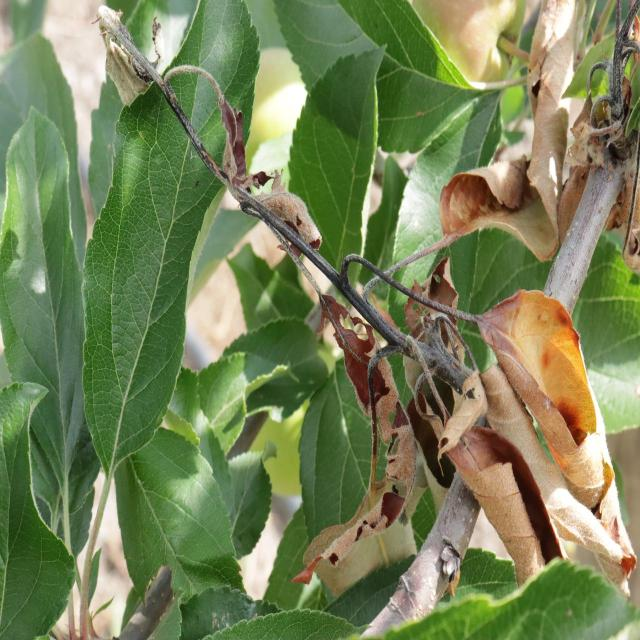-FireBlight-: (319, 265, 640, 578), (476, 23, 610, 250), (202, 78, 316, 249)
